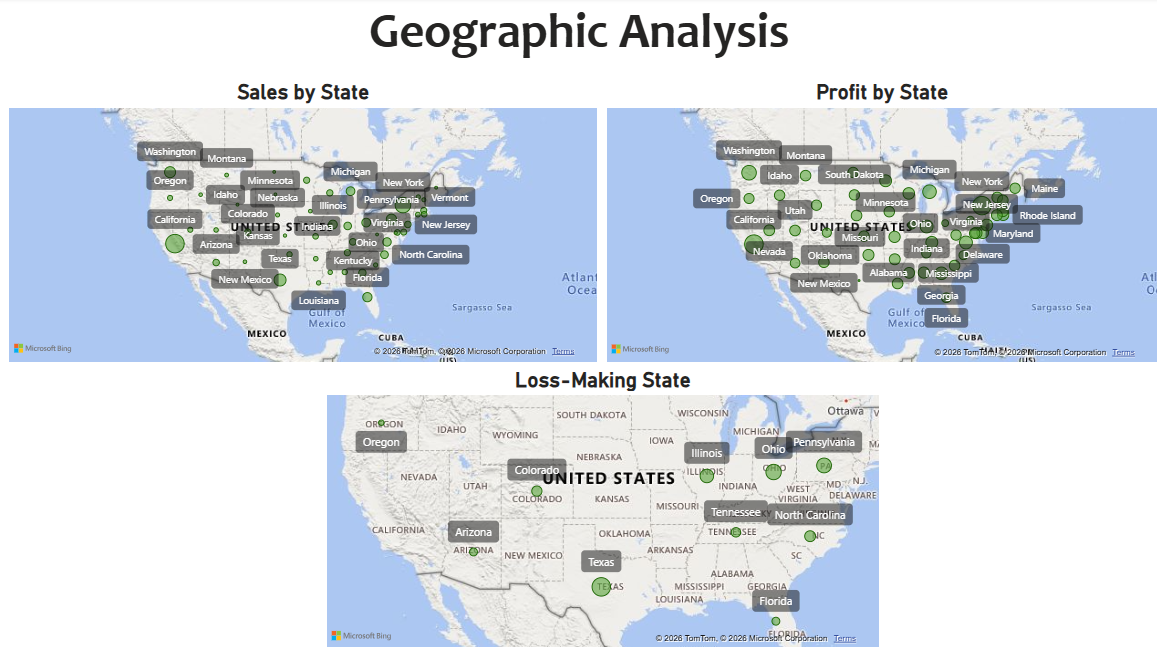

Layout of this report page (visuals, bound fields, positions):
{"tool":"powerbi","page":{"name":"Page 3","canvas":[1280,720],"ordinal":2},"visuals":[{"type":"map","fields":{"Category":["SampleSuperstore.State"],"Size":["Sum(SampleSuperstore.Sales)"]},"box":[10,90,655.4,314.4],"z":0},{"type":"map","fields":{"Category":["SampleSuperstore.State"],"Size":["Sum(SampleSuperstore.Profit)"]},"box":[665.5,90.6,614.8,315.6],"z":1000},{"type":"map","title":"Loss-Making State","fields":{"Category":["SampleSuperstore.State"],"Size":["Sum(SampleSuperstore.Profit)"]},"box":[358.1,406.2,616.1,314.2],"z":2000},{"type":"textbox","box":[0,0,1280,90],"z":3000}]}

Visuals, with their boxes in screenshot pixels (x1, y1, x2, y2), scaled from the page's 1280x720 canvas onto the 1157x647 screenshot:
map - SampleSuperstore.State x Sum(SampleSuperstore.Sales): box=[9, 81, 601, 363]
map - SampleSuperstore.State x Sum(SampleSuperstore.Profit): box=[602, 81, 1156, 365]
"Loss-Making State" map: box=[324, 365, 881, 646]
textbox: box=[0, 0, 1156, 81]
